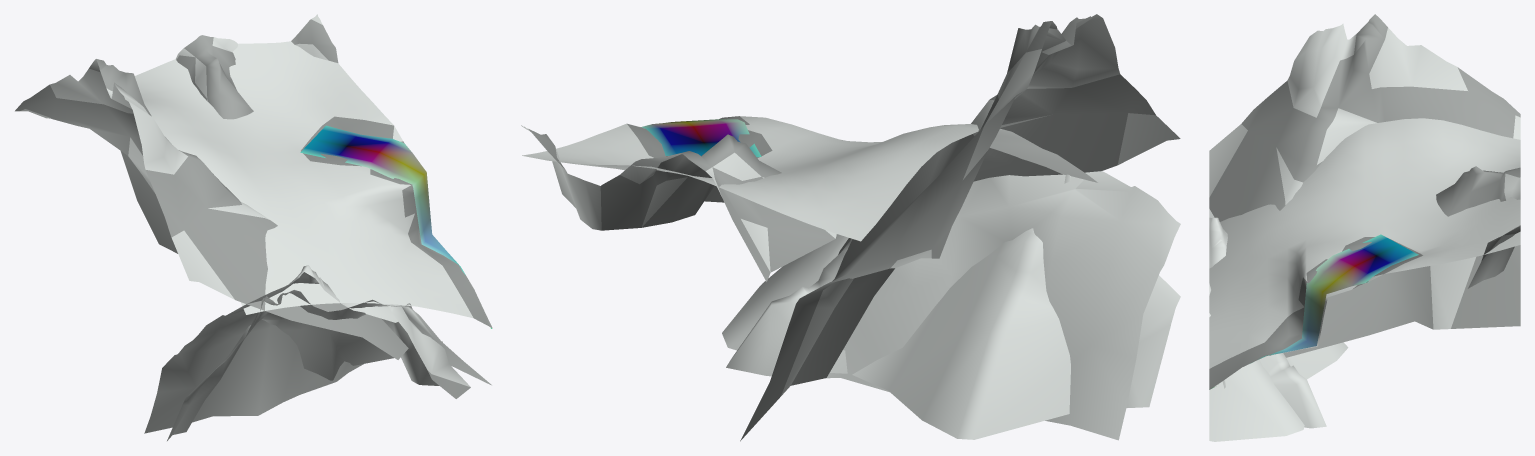
3 views of the same model, side by side, from view 1: azimuth 30°, elevation 25°; view 2: azimuth 150°, elevation 25°; view 3: azimuth 270°, elevation 25° (orthographic). The views are drawn at different scales.
Visible parts, largest first — view 1: G:\FFXIV-MapTools\exports\r1f1\bg\ffxiv\roc_r1\fld\r1f1\bgpl (×8); view 2: G:\FFXIV-MapTools\exports\r1f1\bg\ffxiv\roc_r1\fld\r1f1\bgpl (×6); view 3: G:\FFXIV-MapTools\exports\r1f1\bg\ffxiv\roc_r1\fld\r1f1\bgpl (×8).
Boxes of the visible parts, bbox=[...] form: G:\FFXIV-MapTools\exports\r1f1\bg\ffxiv\roc_r1\fld\r1f1\bgpl (×8): bbox=[15, 14, 492, 440]; G:\FFXIV-MapTools\exports\r1f1\bg\ffxiv\roc_r1\fld\r1f1\bgpl (×6): bbox=[521, 14, 1180, 441]; G:\FFXIV-MapTools\exports\r1f1\bg\ffxiv\roc_r1\fld\r1f1\bgpl (×8): bbox=[1209, 14, 1520, 441].
Bounding box in the file's own units: 128 × 138 × 128.
